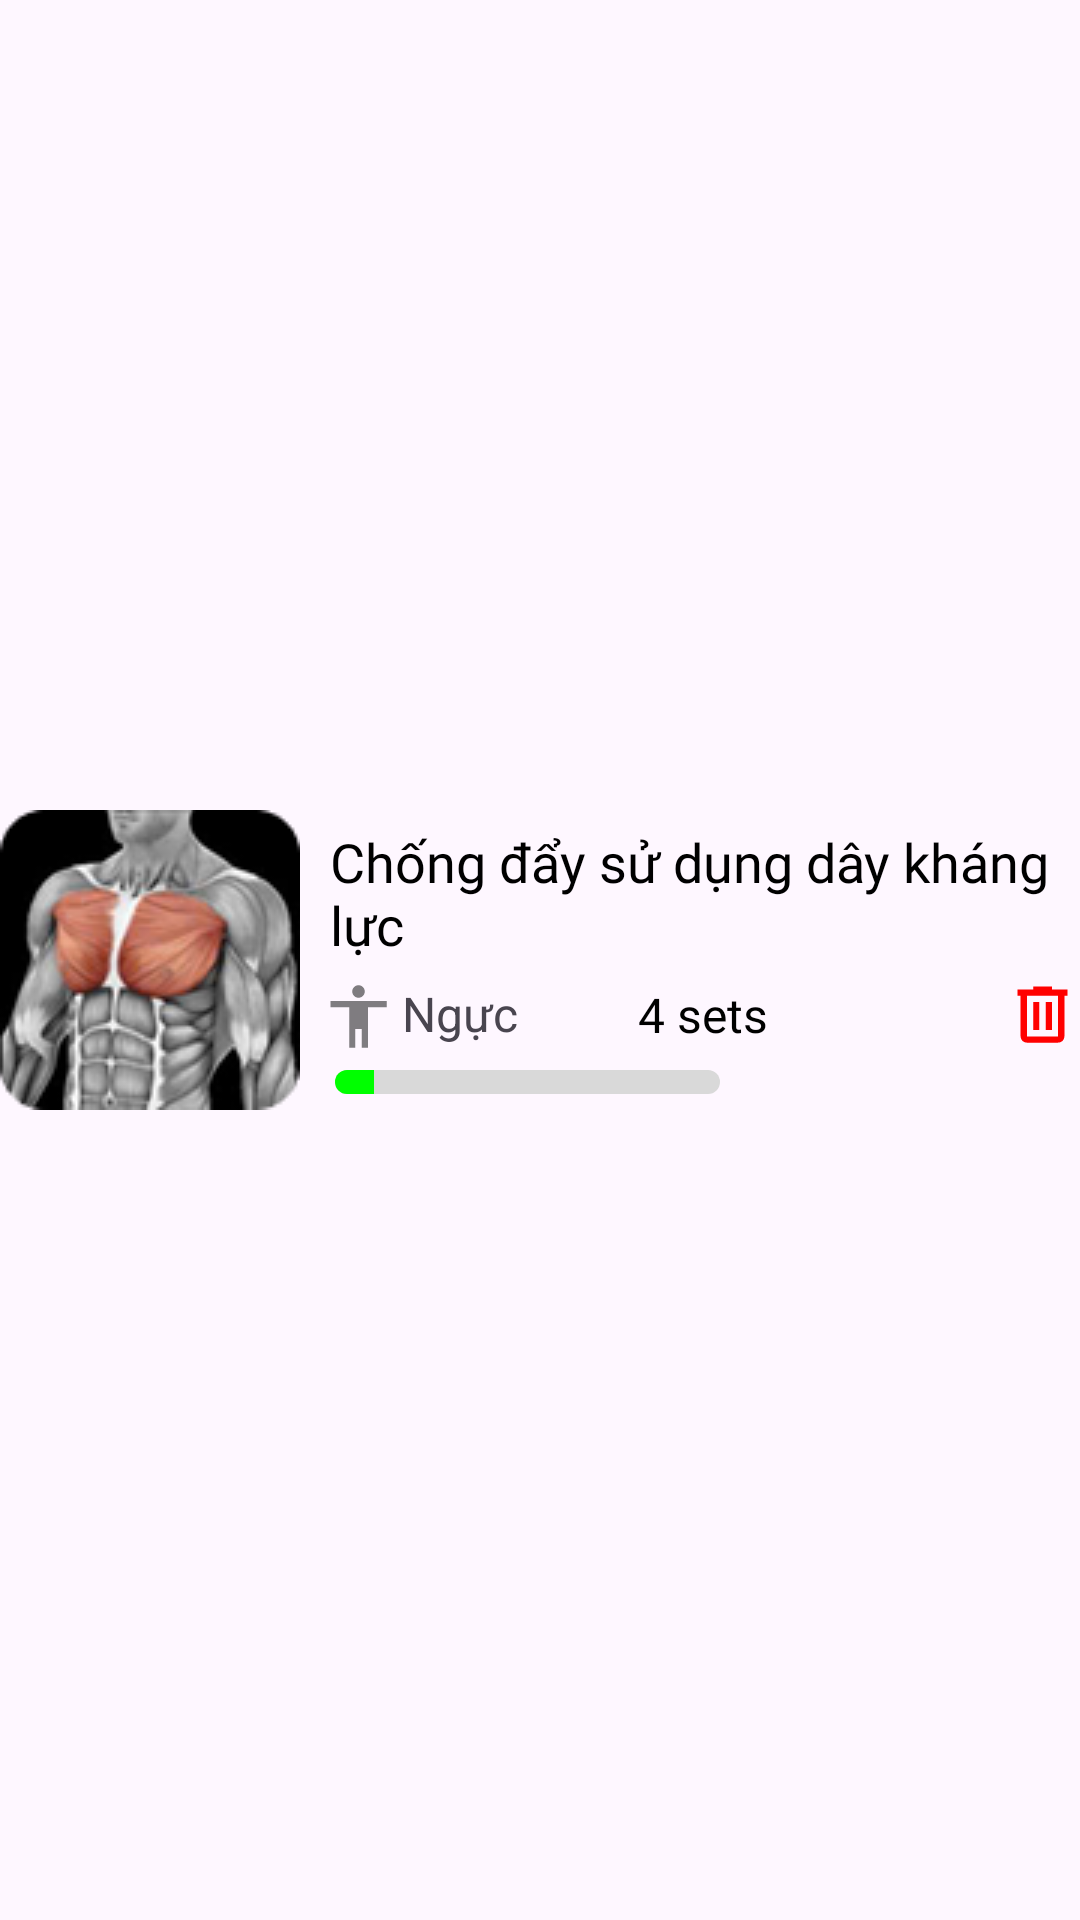

Screen size 1080w x 1920h. Icon name, then its box in pixels as detection(x1, y1, x2, y2):
accessibility: detection(330, 985, 387, 1048)
delete: detection(1017, 986, 1068, 1043)
